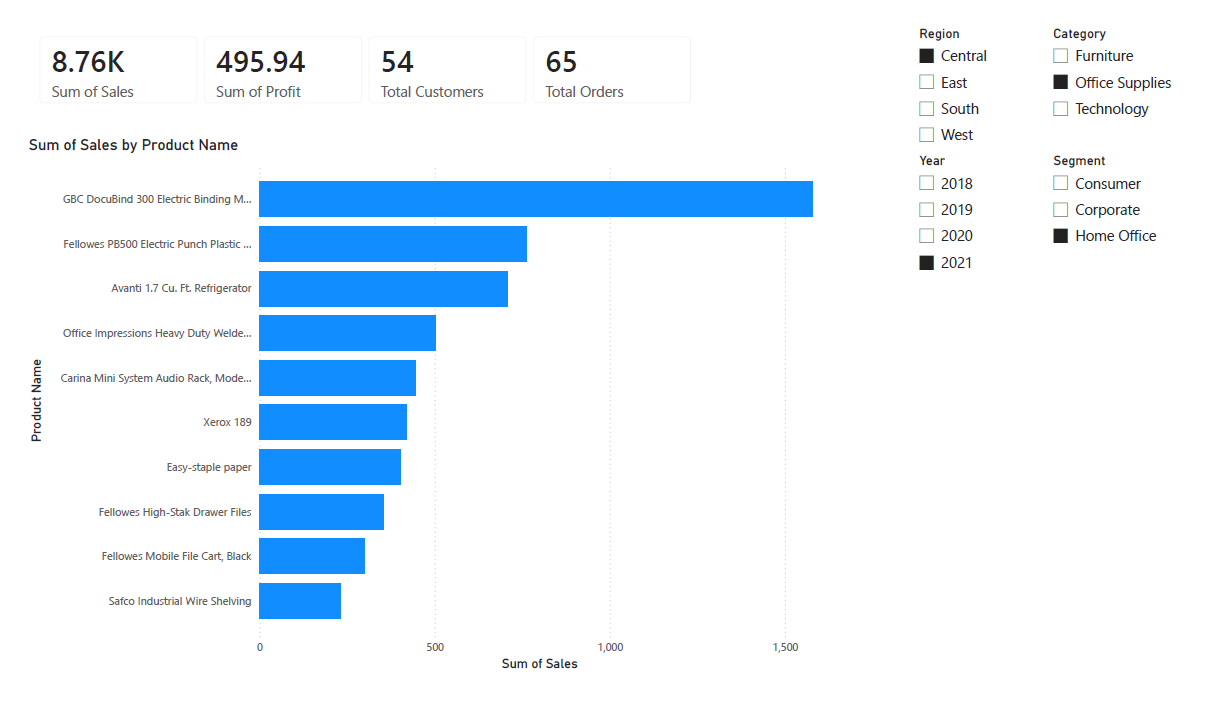

The page's visual inventory and layout, read from the dashboard file:
{"tool":"powerbi","page":{"name":"Page 3","canvas":[1280,720],"ordinal":2},"visuals":[{"type":"clusteredBarChart","fields":{"Category":["cleaned_superstore.Product Name"],"Y":["Sum(cleaned_superstore.Sales)"]},"box":[0,125,895,595],"z":0},{"type":"cardVisual","fields":{"Data":["Sum(cleaned_superstore.Sales)","Sum(cleaned_superstore.Profit)","Measure Table.Total Customers","Measure Table.Total Orders"]},"box":[0,0,833.8,107.5],"z":5000},{"type":"slicer","fields":{"Values":["cleaned_superstore.Segment"]},"box":[1118.5,140.5,135,145],"z":5001},{"type":"slicer","fields":{"Values":["cleaned_superstore.Region"]},"box":[971,0.5,147.5,152.5],"z":5002},{"type":"slicer","fields":{"Values":["cleaned_superstore.Category"]},"box":[1118.5,0.5,161.2,115],"z":5003},{"type":"slicer","fields":{"Values":["cleaned_superstore.Year"]},"box":[971,140.5,147.5,145],"z":5004}]}

Visuals, with their boxes on the page's 1280x720 design canvas (x1, y1, x2, y2). These are canvas units, not pixel positions in the 1217x728 screenshot, which may show the page scaled, cropped or inside an application window:
clusteredBarChart - cleaned_superstore.Product Name x Sum(cleaned_superstore.Sales): region(0, 125, 895, 720)
cardVisual - Sum(cleaned_superstore.Sales) x Sum(cleaned_superstore.Profit): region(0, 0, 834, 108)
slicer - cleaned_superstore.Segment: region(1118, 140, 1254, 286)
slicer - cleaned_superstore.Region: region(971, 0, 1118, 153)
slicer - cleaned_superstore.Category: region(1118, 0, 1280, 116)
slicer - cleaned_superstore.Year: region(971, 140, 1118, 286)
